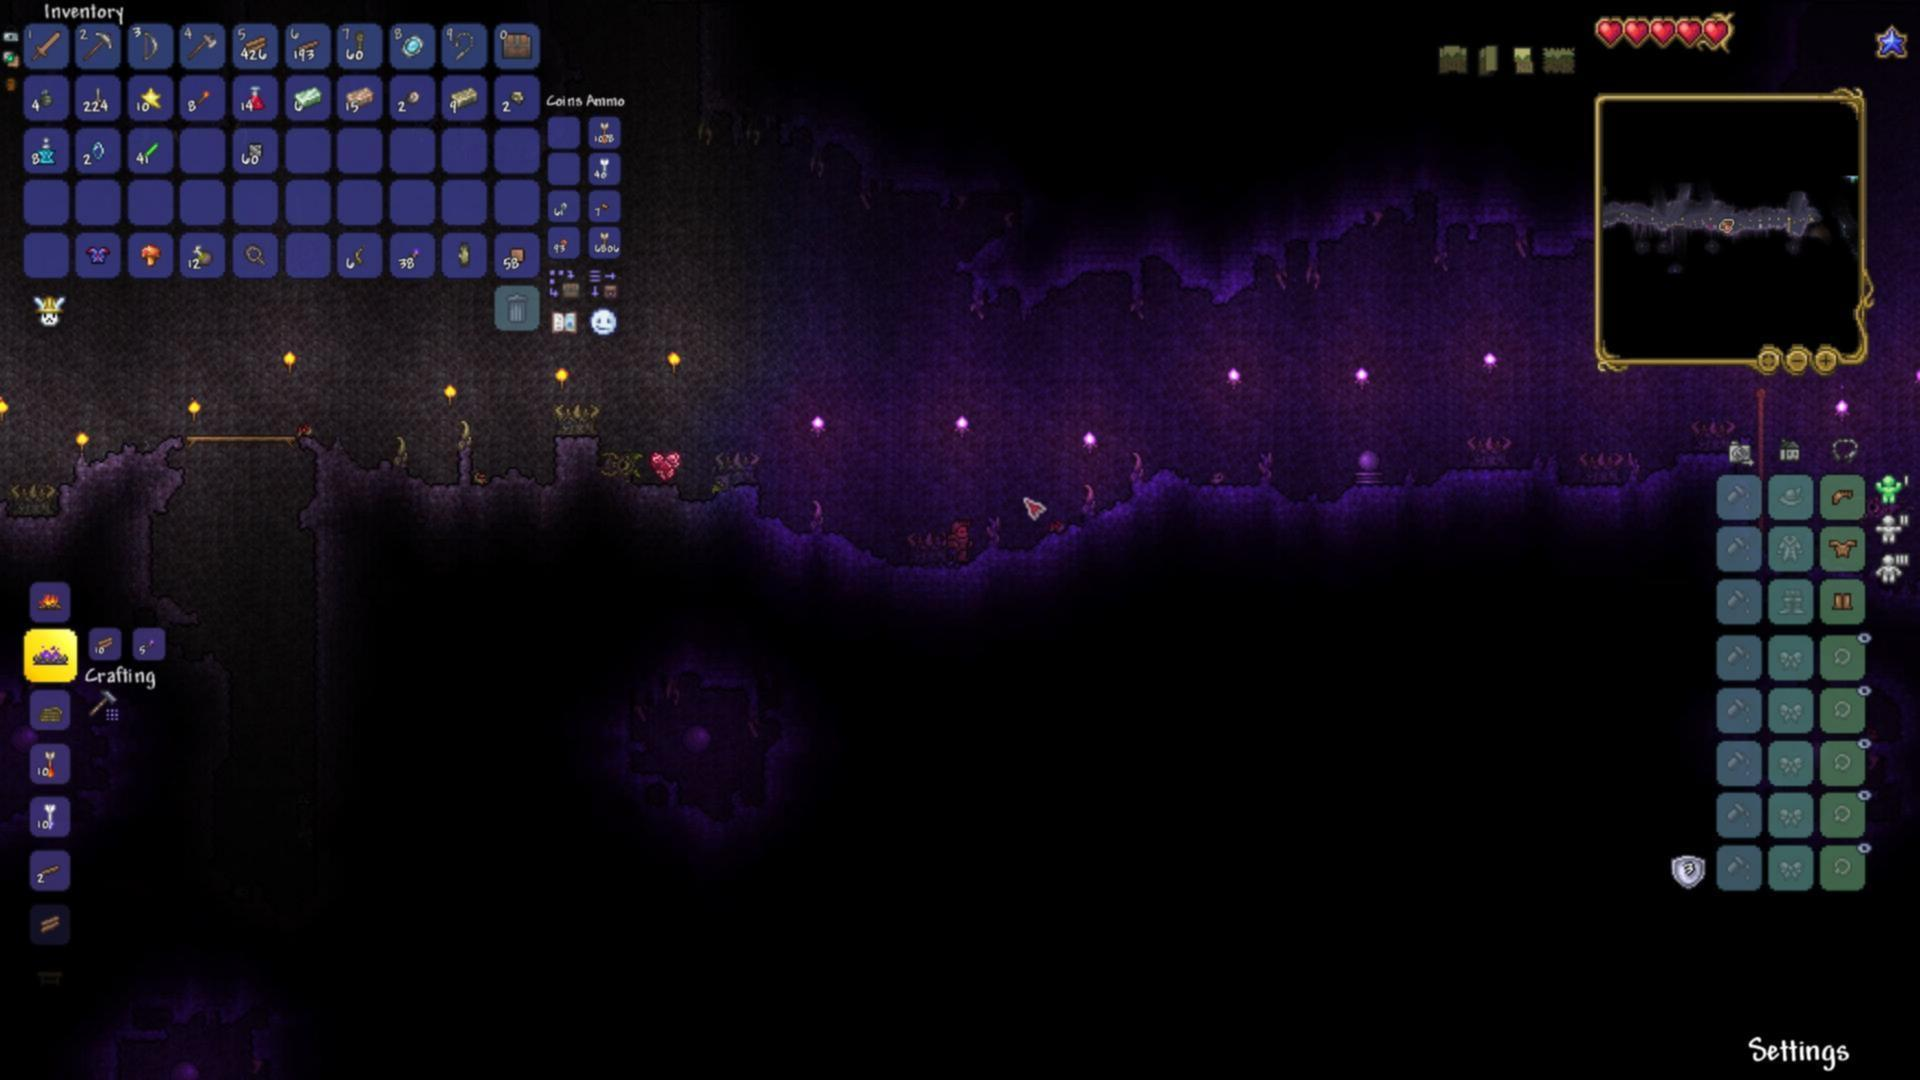chest: (502, 36, 537, 61)
potion: (245, 80, 265, 112)
recallP: (37, 135, 58, 165)
